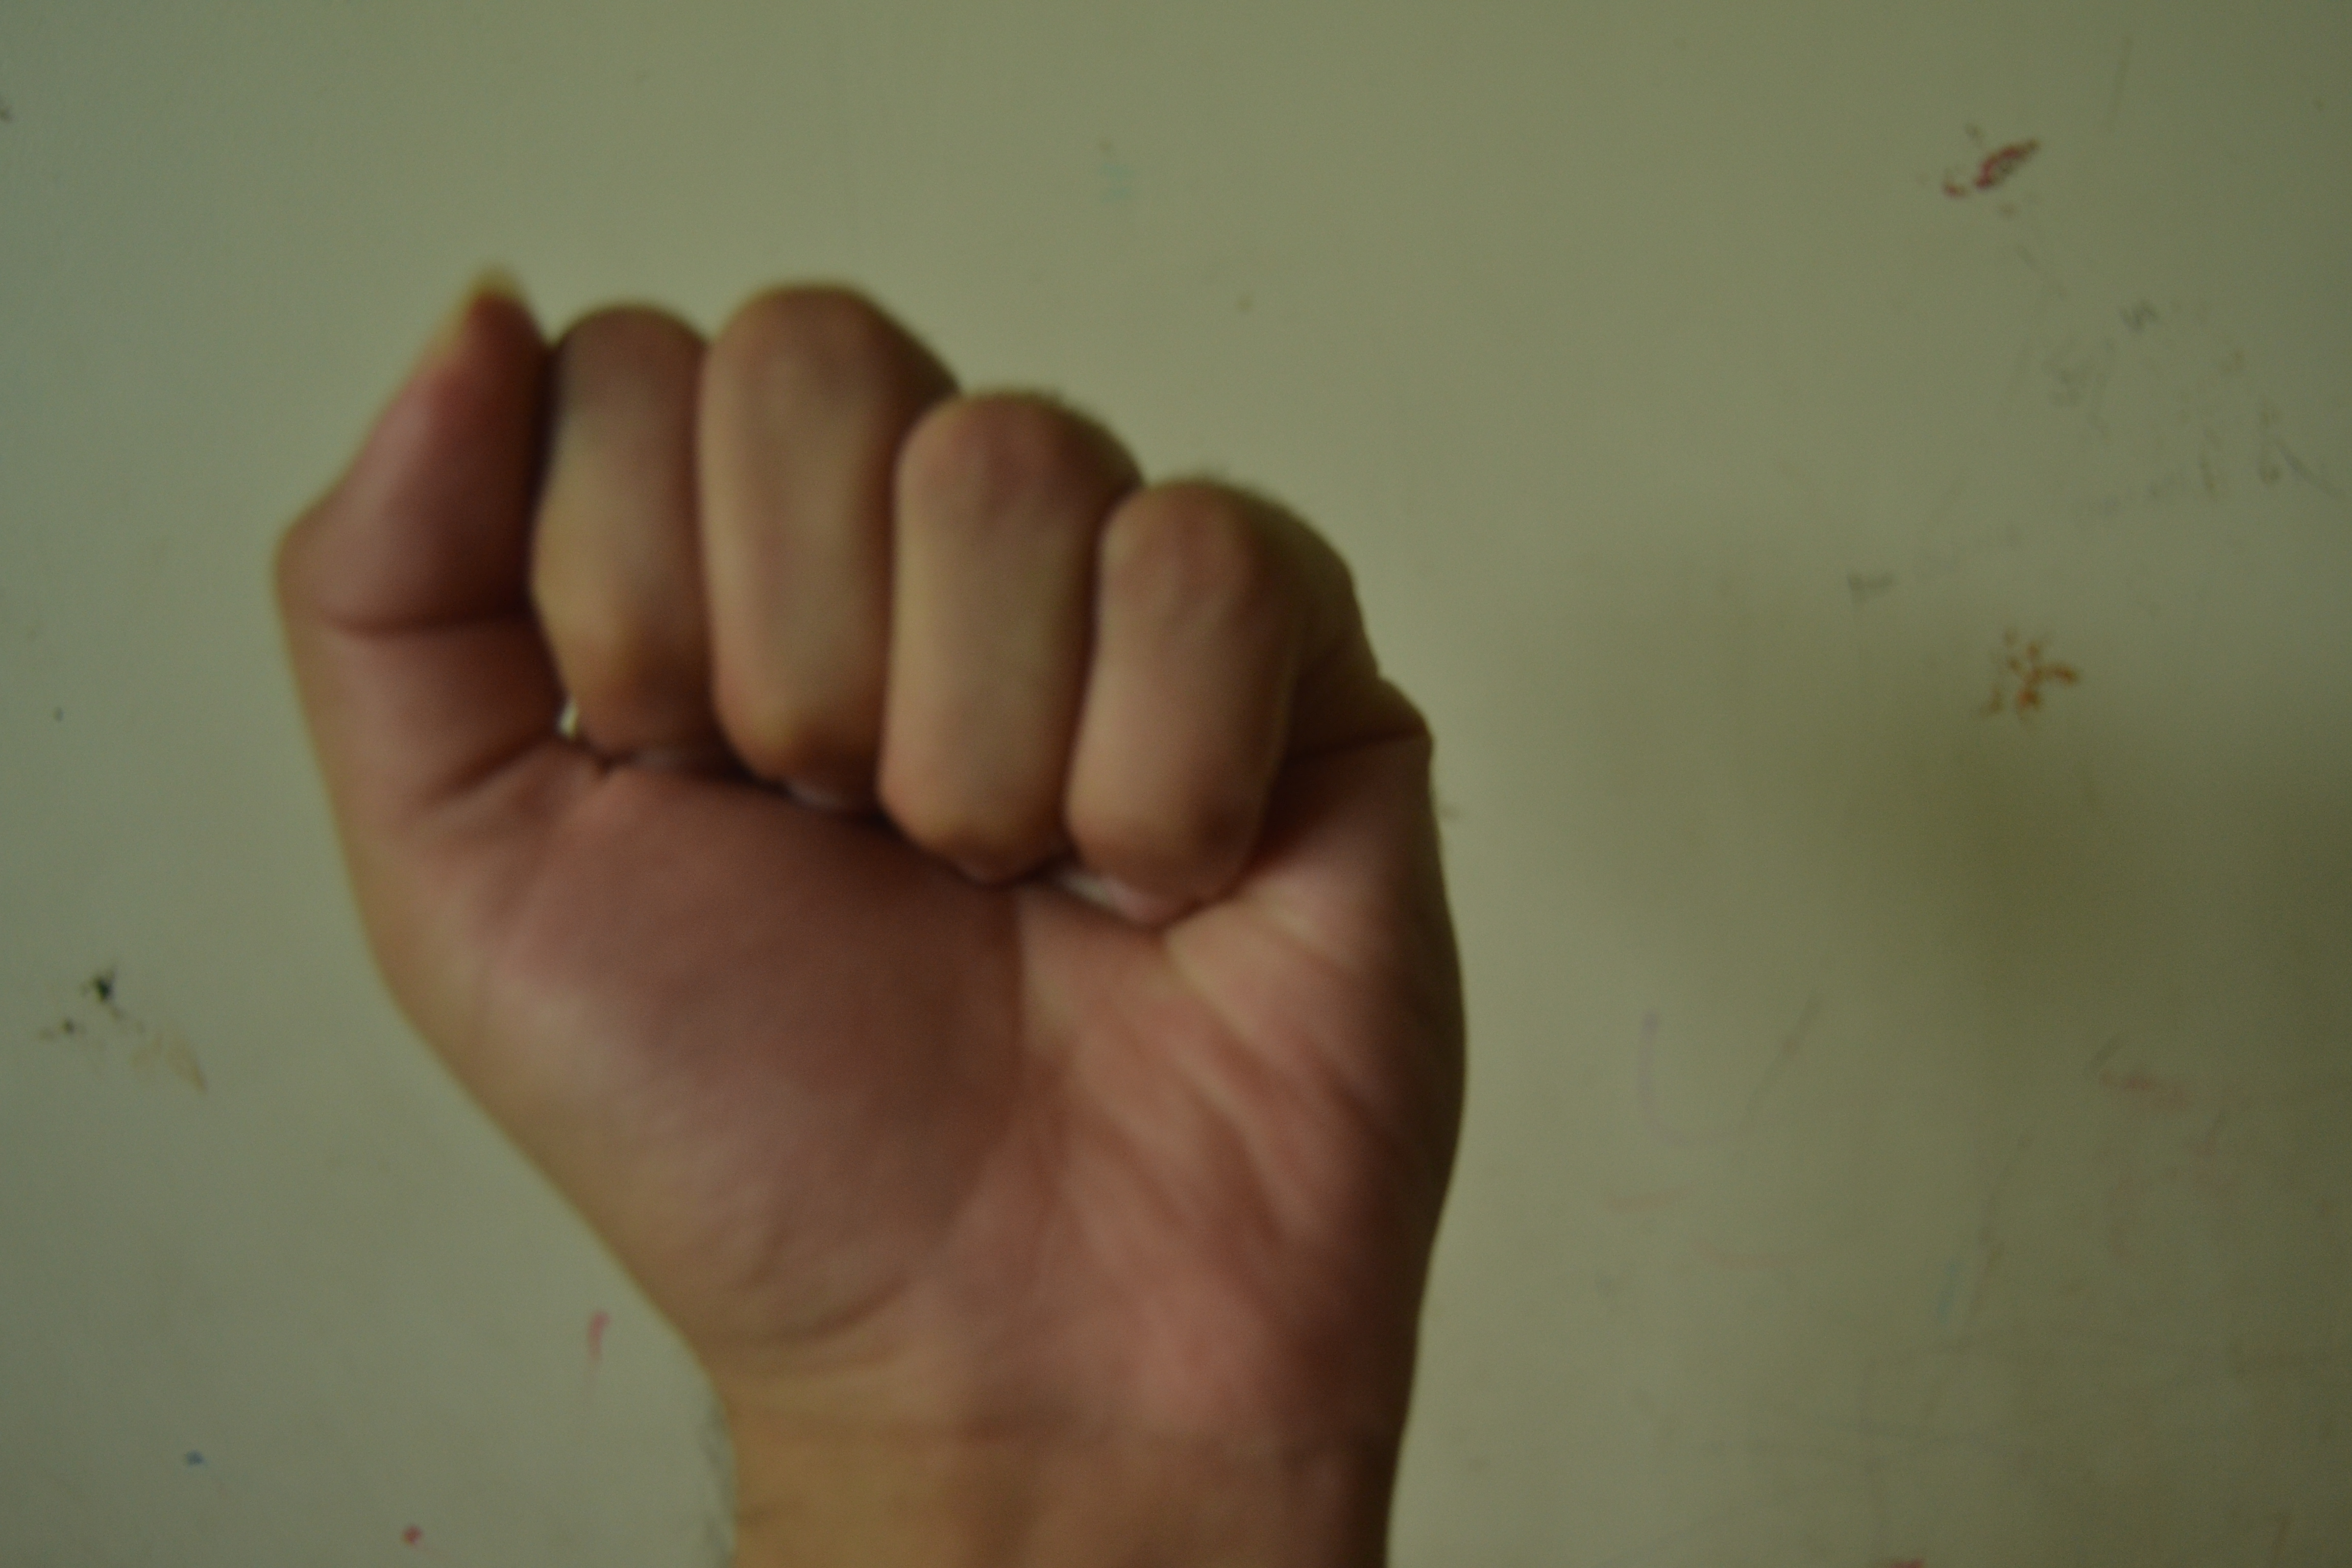click: (252, 213, 1627, 1514)
